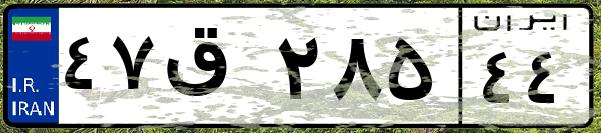2: (270, 28, 330, 110)
4: (57, 26, 110, 100), (475, 38, 525, 113), (525, 38, 570, 115)
5: (385, 28, 445, 110)
7: (110, 28, 158, 98)
8: (330, 28, 385, 110)
ق: (158, 20, 270, 120)
